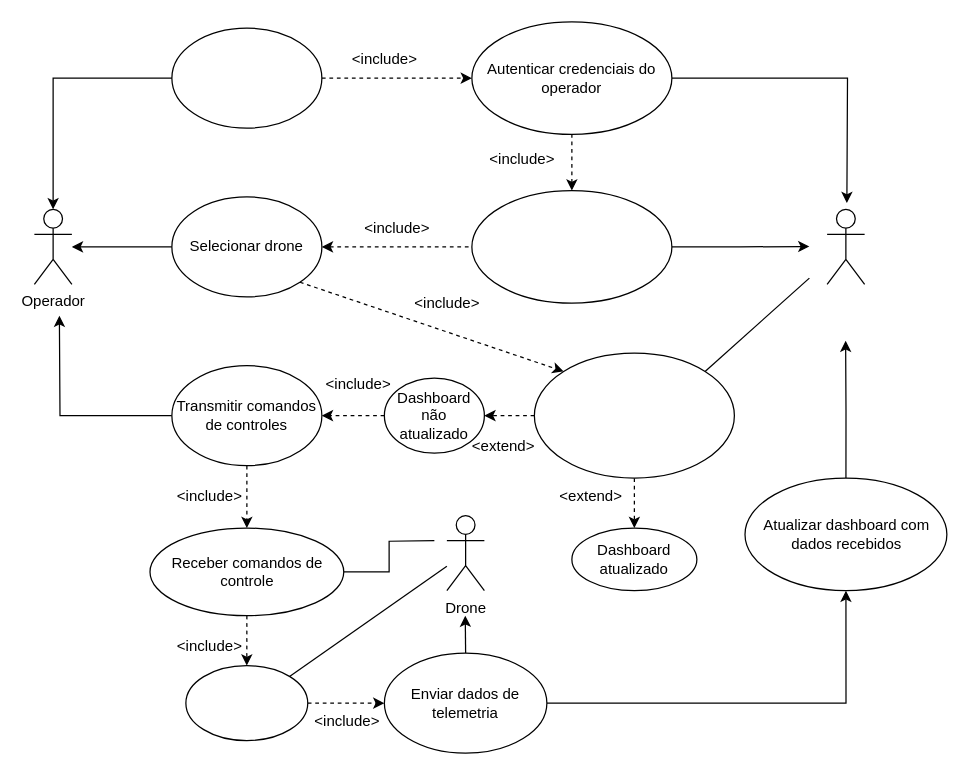
The diagram is 969 pixels wide and 775 high, and some of its shapes have lost their labels. The box of each missing label's shape, as (x1, y1, x2, y2) in pixels:
Central de controle: (826, 208, 865, 284)
Executar comandos: (185, 664, 308, 741)
Exibir dashboard de telemetria: (533, 352, 734, 478)
Exibir interface de gerenciamento: (471, 189, 672, 303)
Iniciar sessão: (171, 27, 322, 128)
